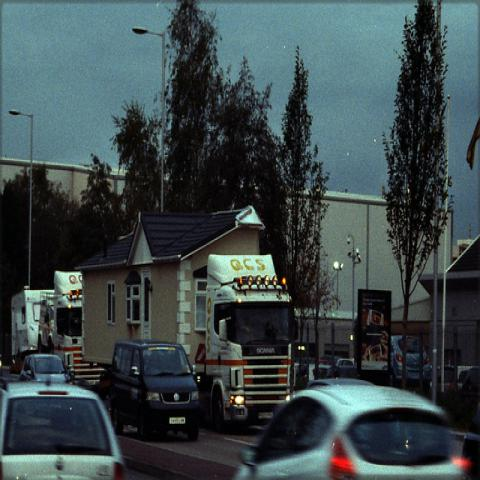car: (229, 379, 471, 476), (0, 382, 130, 478), (106, 338, 203, 442), (390, 334, 432, 396), (19, 353, 75, 384), (437, 365, 478, 390), (294, 364, 309, 388), (335, 358, 355, 370), (318, 359, 328, 365)
truck: (191, 254, 295, 432), (37, 272, 108, 386)
